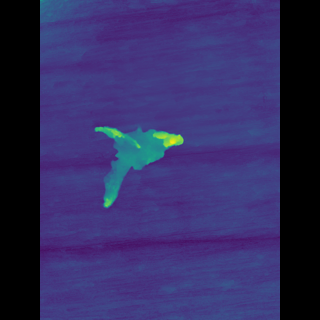Loch: (109, 121, 179, 210)
